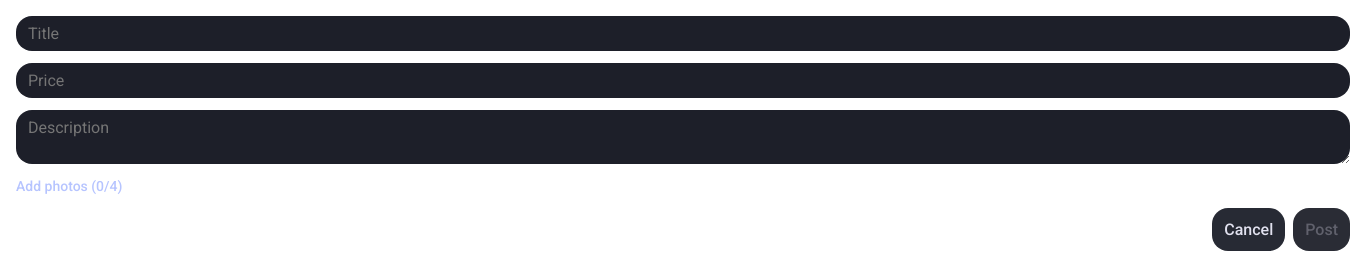
CreateListing › Post is disabled until title, price, and description are all filled
Expected: the button "Post" is disabled, [1293,208,1350,251]
Type "Bike" into the field with placeholder "Title".
click(683, 34); type("Bike")  # box [16,16,1350,51]
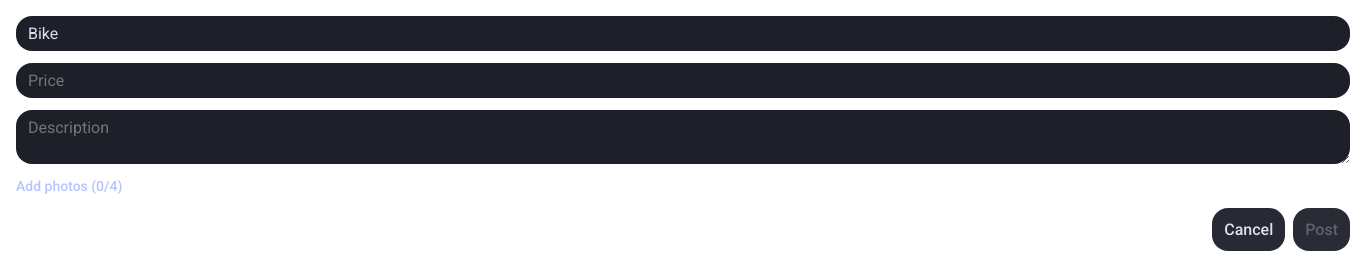
Type "100" into the number field with placeholder "Price".
click(683, 80); type("100")  # box [16,63,1350,98]
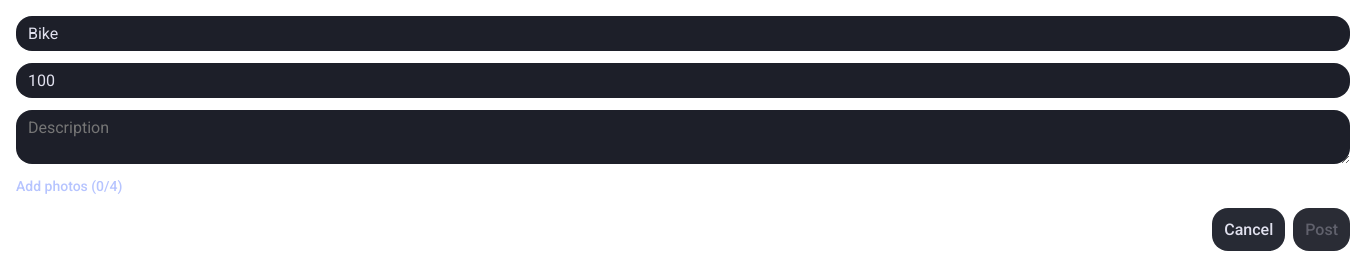
Expected: the button "Post" is disabled, [1293,208,1350,251]
Type "good bike" into the text box with placeholder "Description".
click(683, 137); type("good bike")  # box [16,110,1350,164]
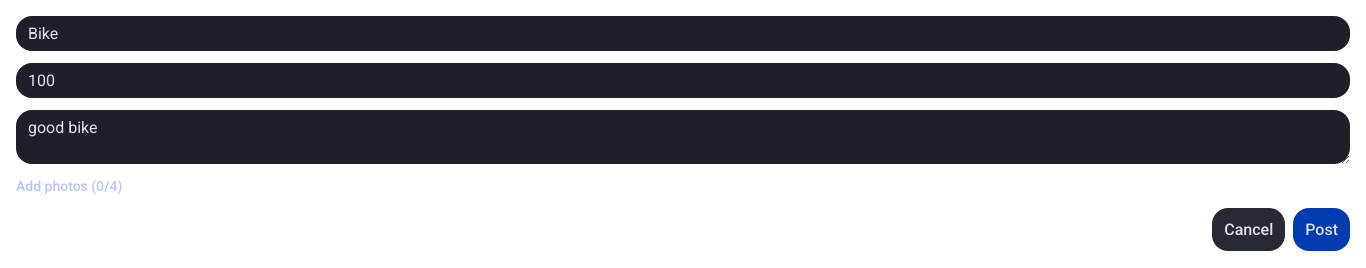
Now the button "Post" is enabled, box [1293,208,1350,251]
